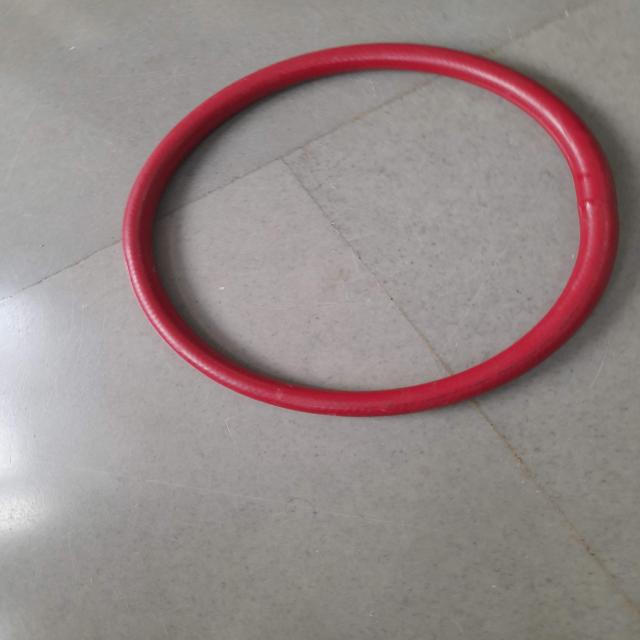daire: (125, 43, 614, 414)
